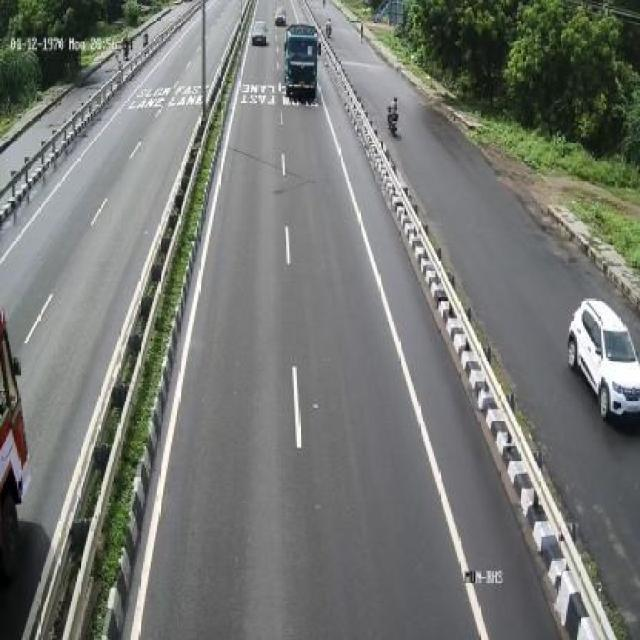car: (572, 296, 640, 424)
